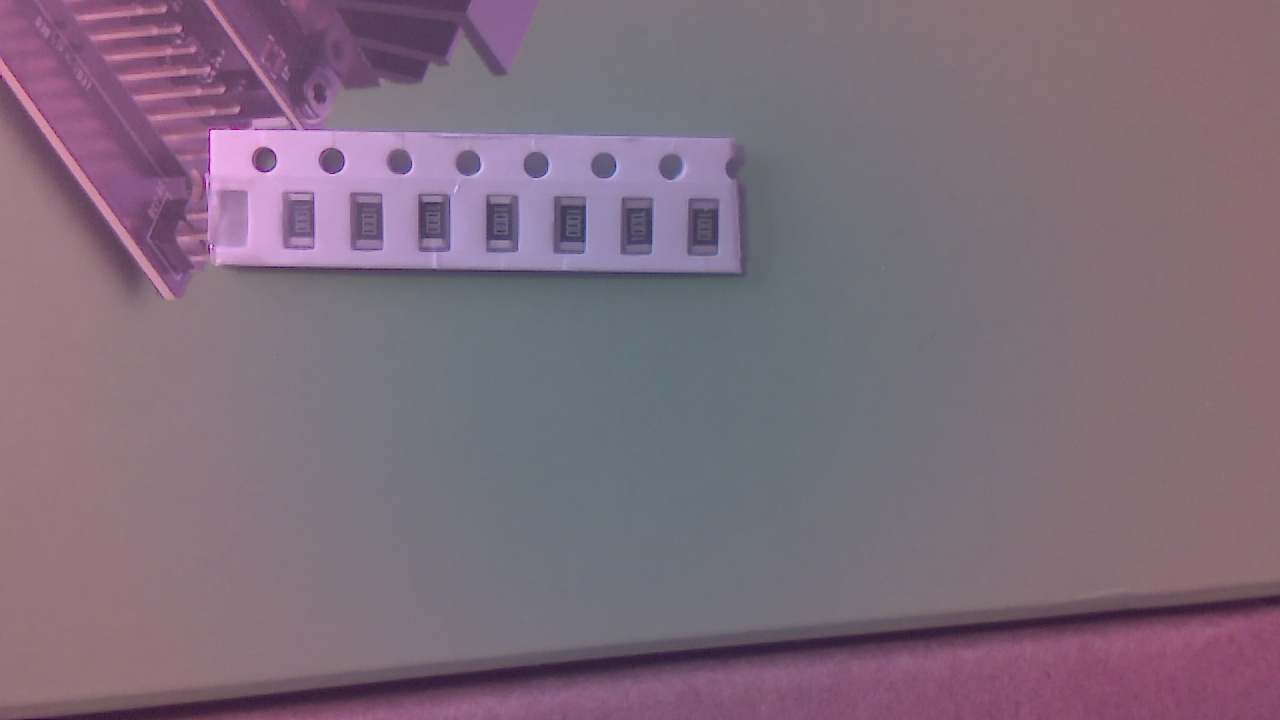Resistor: (353, 197, 391, 256), (624, 201, 661, 261), (285, 194, 322, 254), (691, 201, 726, 261), (558, 199, 592, 260), (421, 197, 455, 258), (488, 199, 523, 258)
